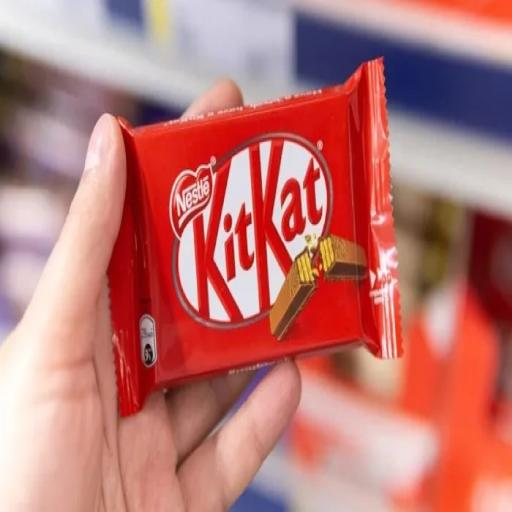kitkat: (88, 77, 428, 434)
